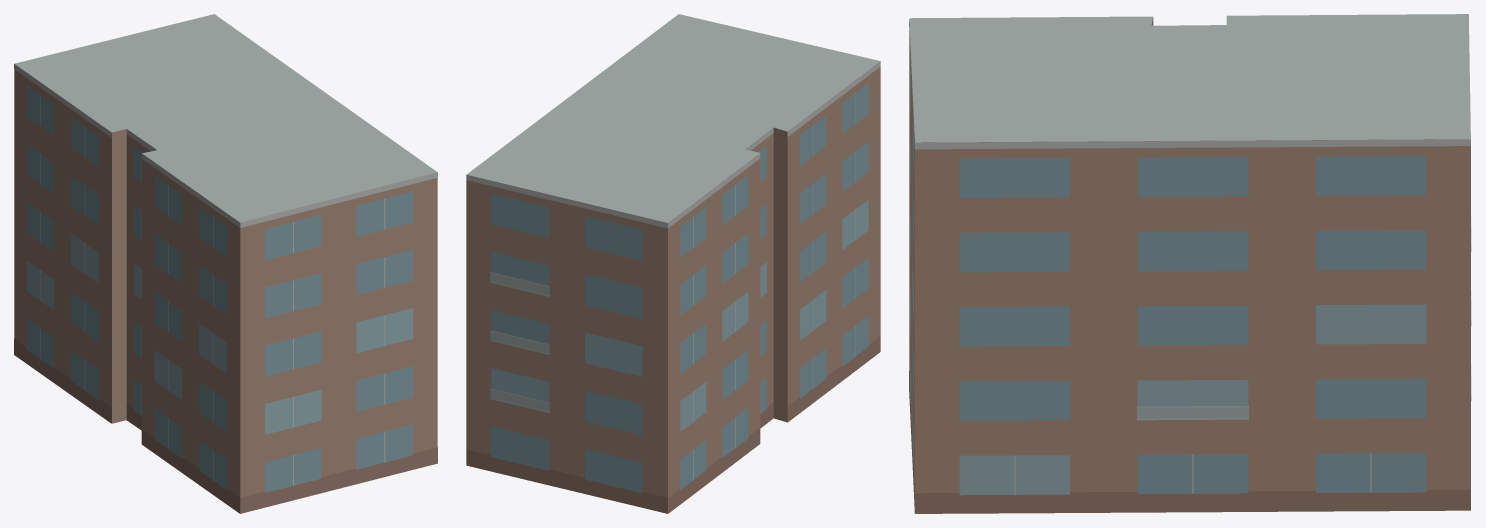
Rendered from survey-upis-32768003.glb.
3 renders of one model, left to right at view 1: azimuth 30°, elevation 25°; view 2: azimuth 150°, elevation 25°; view 3: azimuth 270°, elevation 25°, orthographic. The views are drawn at different scales.
Parts seen in each view (by area): view 1: survey-upis-32768003.tmp; view 2: survey-upis-32768003.tmp; view 3: survey-upis-32768003.tmp.
Boxes of the visible parts, <box> form: survey-upis-32768003.tmp: <box>14,14,437,513</box>; survey-upis-32768003.tmp: <box>466,14,880,513</box>; survey-upis-32768003.tmp: <box>909,14,1471,513</box>.
Bounding box in the file's own units: 9.79 × 13.18 × 18.1.
